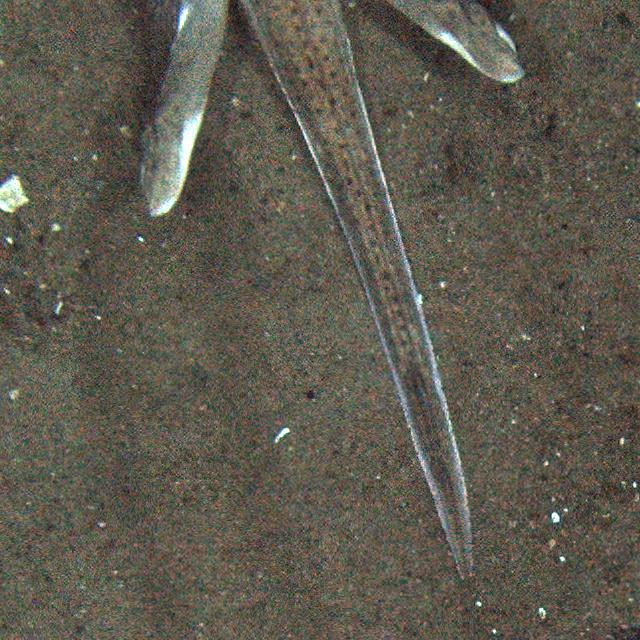skate: (131, 2, 548, 578)
